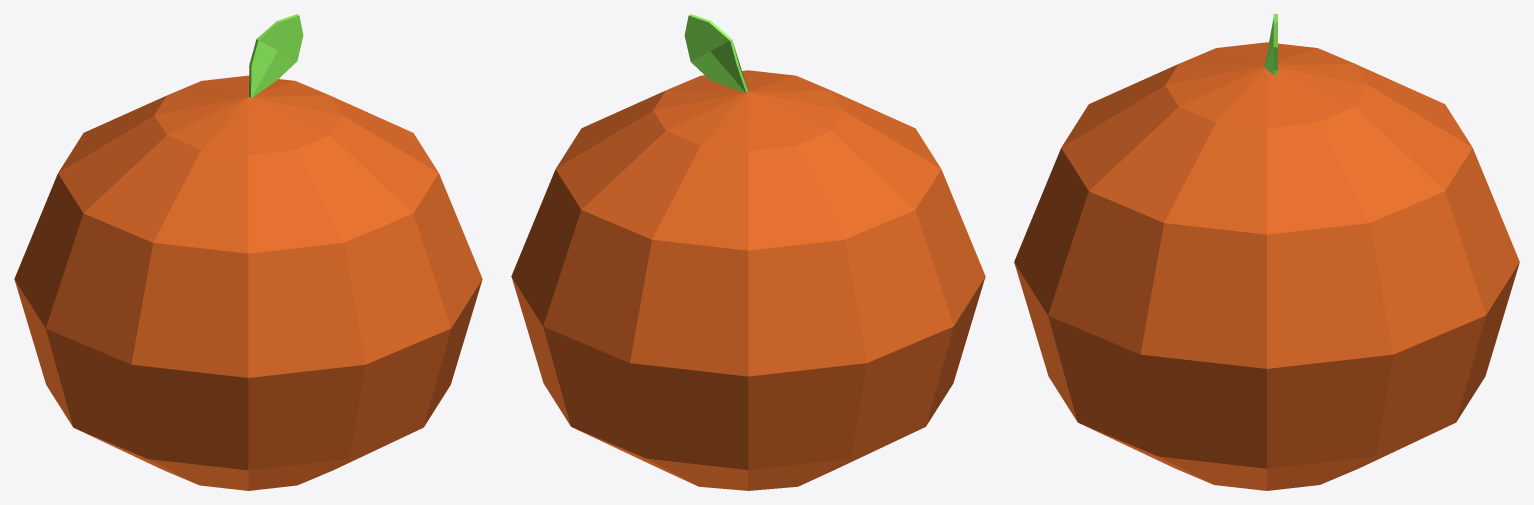
The model's file is narandzaKOOL.fbx.
3 renders of one model, left to right at view 1: azimuth 30°, elevation 25°; view 2: azimuth 150°, elevation 25°; view 3: azimuth 270°, elevation 25°, orthographic. The views are drawn at different scales.
Parts seen in each view (by area): view 1: Sphere.002; view 2: Sphere.002; view 3: Sphere.002.
Part boxes in pixels (left/top/right/bottom): Sphere.002: left=14, top=14, right=482, bottom=490; Sphere.002: left=511, top=14, right=985, bottom=490; Sphere.002: left=1014, top=14, right=1519, bottom=490.
Size of the model in its own units: 200 by 209 by 200.
